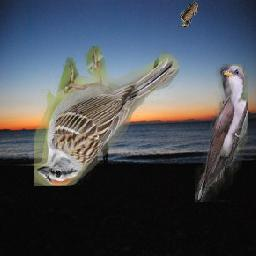Cuckoo: (196, 64, 249, 202), (172, 1, 199, 28)
Sparrow: (35, 46, 180, 186)
